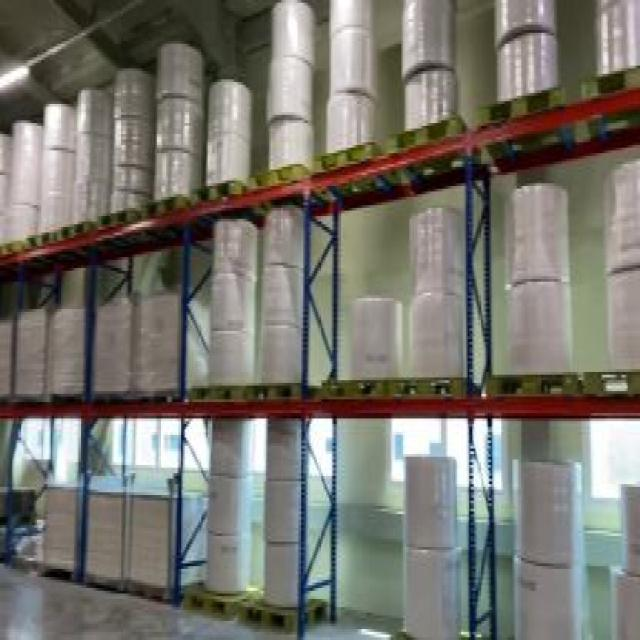white_roll: (40, 473, 208, 602), (491, 178, 582, 391), (374, 440, 471, 638), (400, 202, 475, 410), (509, 457, 591, 637), (251, 419, 318, 629), (257, 214, 320, 408), (192, 218, 260, 396), (84, 287, 184, 402), (194, 416, 252, 612), (392, 0, 468, 142), (264, 3, 322, 175), (41, 88, 110, 227), (328, 296, 412, 410), (602, 159, 638, 410), (323, 3, 377, 164), (491, 3, 562, 123), (2, 304, 86, 399), (151, 41, 198, 205), (598, 482, 638, 638), (111, 71, 152, 216), (578, 6, 638, 101), (1, 109, 38, 241), (208, 77, 246, 186)
